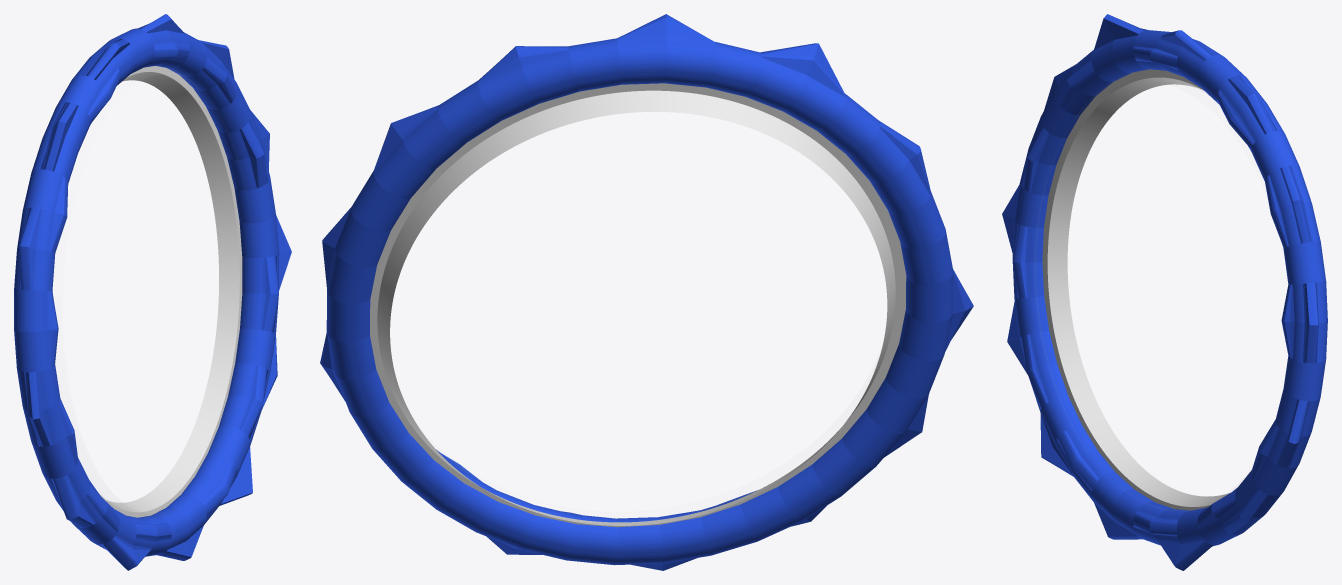
The model's file is blueBezel.glb.
3 views of the same model, side by side, from view 1: azimuth 30°, elevation 25°; view 2: azimuth 150°, elevation 25°; view 3: azimuth 270°, elevation 25° (orthographic). The views are drawn at different scales.
Visible parts, largest first — view 1: Circle, case_logo_rolex_8; view 2: Circle, case_logo_rolex_8; view 3: Circle, case_logo_rolex_8.
Boxes of the visible parts, bbox=[...] form: Circle: bbox=[14, 14, 291, 570]; case_logo_rolex_8: bbox=[99, 66, 242, 517]; Circle: bbox=[320, 14, 973, 570]; case_logo_rolex_8: bbox=[370, 83, 906, 527]; Circle: bbox=[1002, 14, 1327, 570]; case_logo_rolex_8: bbox=[1042, 69, 1230, 510].
Size of the model in its own units: 0.0238 by 0.0282 by 0.0169.
